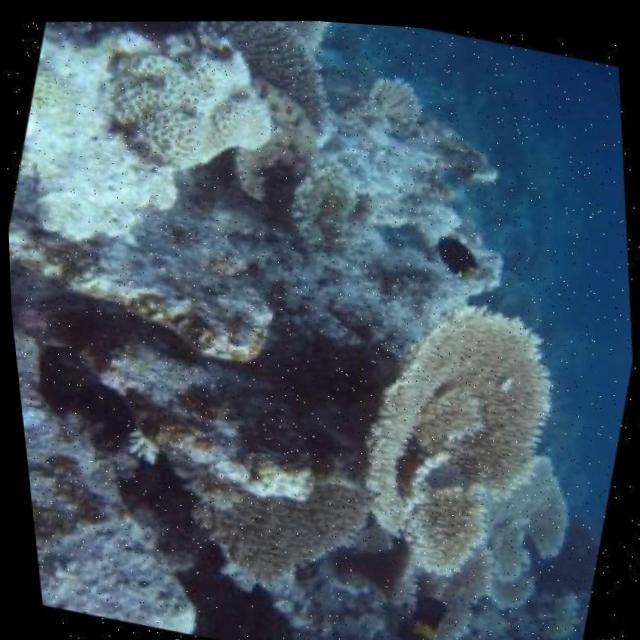Bleached Coral: (0, 0, 500, 311), (10, 325, 308, 632)
Healthy Coral: (333, 291, 570, 628)
